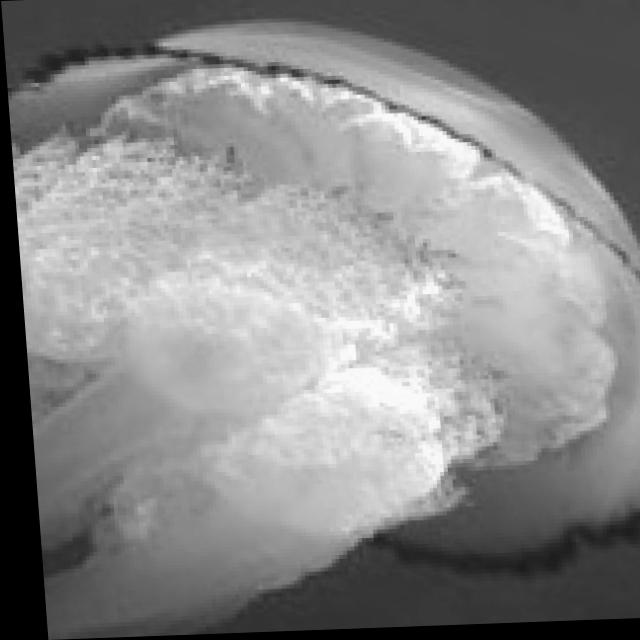Box-jellyfish: (1, 4, 640, 640)
